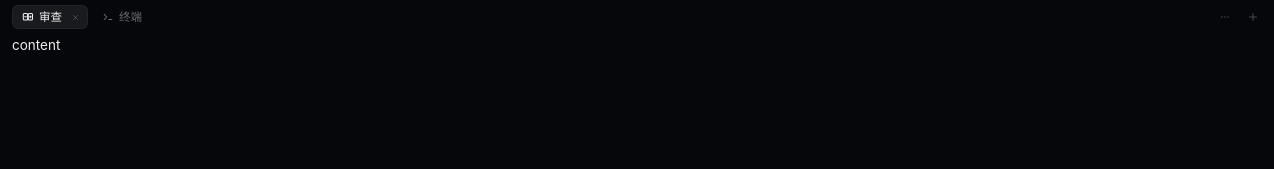
Scenario: 工作台标签栏 › 右键标签弹出菜单（含三个操作）
This screenshot has width=1274, height=169.
Right-click the element with class "wb-tab" showing "审查": (50, 17) [12,5,88,29]
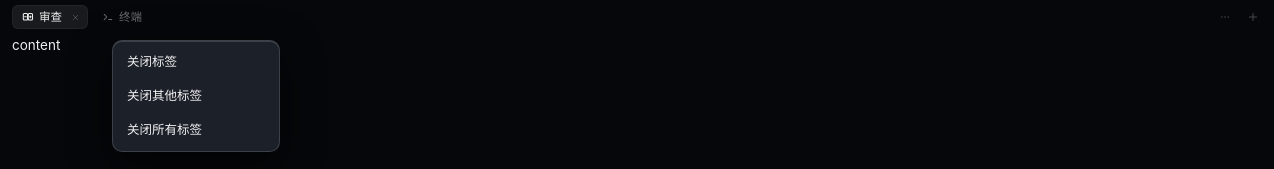
Now the menu with class "ctx-menu" is shown, box [112,40,280,152]
